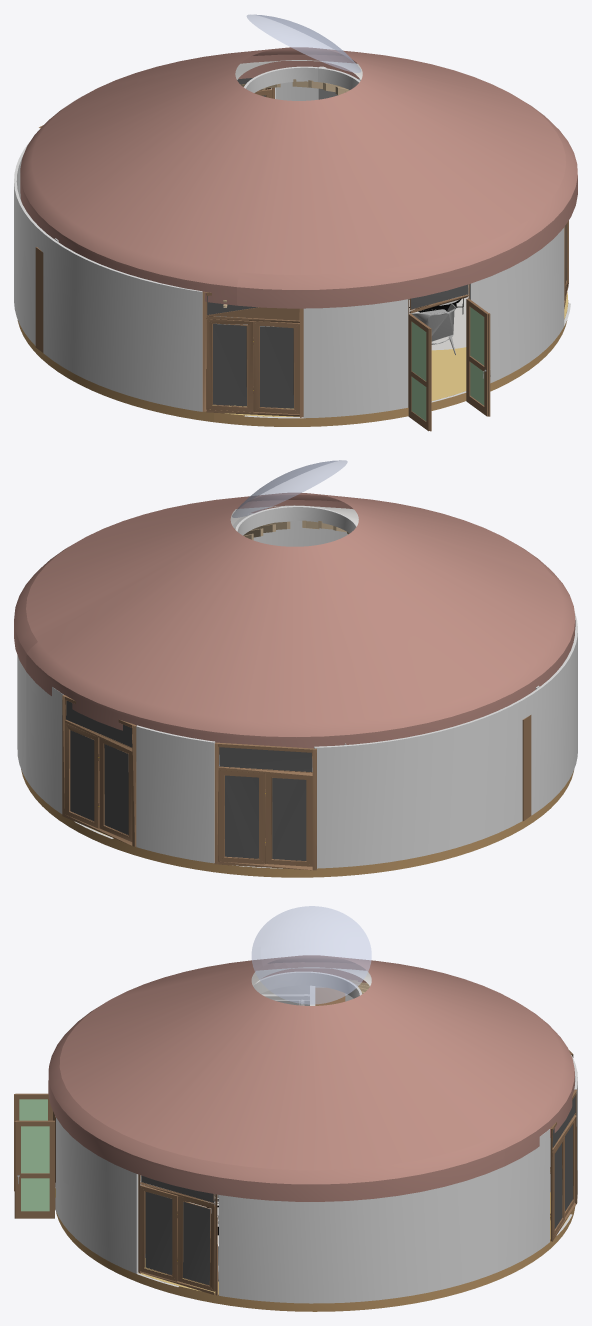
File: layout-a.glb
The picture shows the model from 3 angles, top to bottom: view 1: azimuth 30°, elevation 25°; view 2: azimuth 150°, elevation 25°; view 3: azimuth 270°, elevation 25°; orthographic projection. The views are drawn at different scales.
Parts seen in each view (by area): view 1: fabric_1, Wall cover, SKP Vertex Colors, [Wood Floor Parquet], Charcoal Blue, Roof frame, Glass, [Translucent Glass Sky Reflection]2, [Ornate Tile 01], Tapetah_Fabric_Samba2, fabric_03; view 2: fabric_1, Wall cover, SKP Vertex Colors, Roof frame, [Wood Floor Parquet], [Translucent Glass Sky Reflection]2, Charcoal Blue, fabric_03; view 3: fabric_1, Wall cover, SKP Vertex Colors, [Translucent Glass Sky Reflection]2, [Wood Floor Parquet], Glass, Charcoal Blue, Roof frame, fabric_03.
Boxes of the visible parts, x1=… form: fabric_1: x1=20, y1=47, x2=577, y2=308; Wall cover: x1=14, y1=79, x2=570, y2=418; SKP Vertex Colors: x1=54, y1=83, x2=568, y2=417; [Wood Floor Parquet]: x1=17, y1=302, x2=568, y2=426; Charcoal Blue: x1=35, y1=247, x2=490, y2=431; Roof frame: x1=14, y1=66, x2=468, y2=312; Glass: x1=411, y1=307, x2=484, y2=421; [Translucent Glass Sky Reflection]2: x1=246, y1=14, x2=360, y2=72; [Ornate Tile 01]: x1=210, y1=292, x2=568, y2=416; Tapetah_Fabric_Samba2: x1=409, y1=285, x2=468, y2=350; fabric_03: x1=235, y1=60, x2=362, y2=79; fabric_1: x1=14, y1=492, x2=575, y2=748; Wall cover: x1=17, y1=514, x2=577, y2=868; SKP Vertex Colors: x1=62, y1=688, x2=536, y2=870; Roof frame: x1=54, y1=506, x2=577, y2=767; [Wood Floor Parquet]: x1=21, y1=769, x2=573, y2=877; [Translucent Glass Sky Reflection]2: x1=232, y1=460, x2=347, y2=517; Charcoal Blue: x1=522, y1=715, x2=531, y2=821; fabric_03: x1=230, y1=505, x2=358, y2=525; fabric_1: x1=48, y1=955, x2=574, y2=1201; Wall cover: x1=55, y1=985, x2=577, y2=1303; SKP Vertex Colors: x1=17, y1=1000, x2=577, y2=1295; [Translucent Glass Sky Reflection]2: x1=251, y1=906, x2=371, y2=1004; [Wood Floor Parquet]: x1=56, y1=1207, x2=574, y2=1311; Glass: x1=19, y1=1099, x2=49, y2=1211; Charcoal Blue: x1=14, y1=987, x2=345, y2=1218; Roof frame: x1=140, y1=971, x2=577, y2=1202; fabric_03: x1=251, y1=967, x2=371, y2=986.
Bounding box in the file's own units: 10.2 × 6.11 × 10.83.
